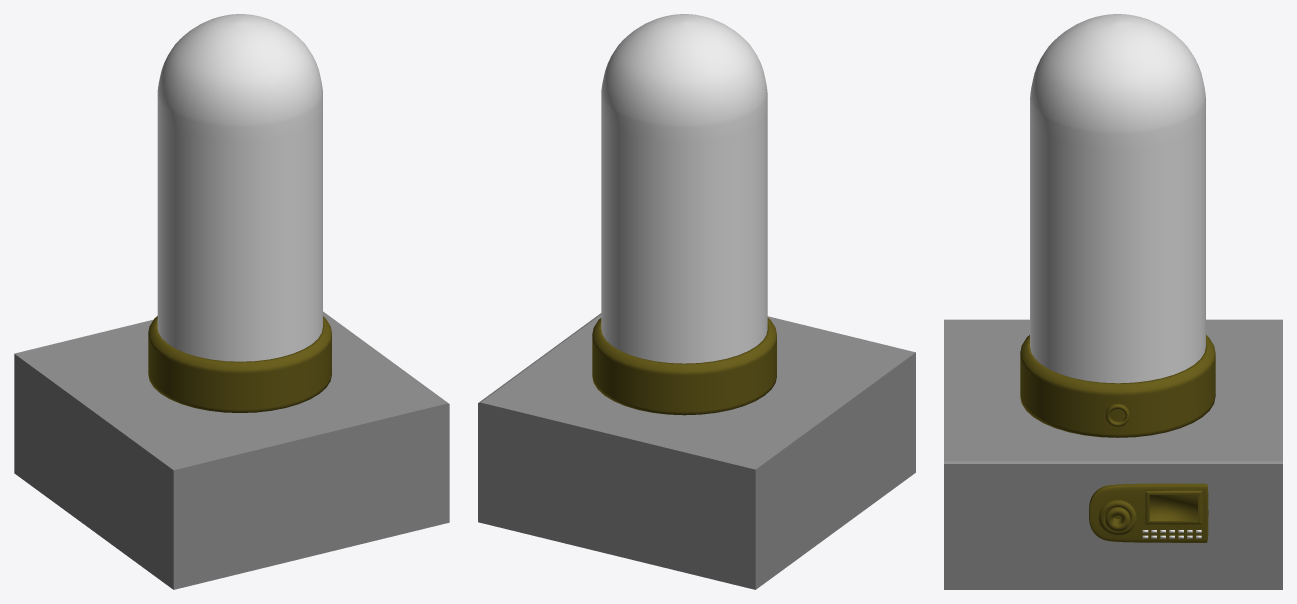
Rendered from SPrastenie_kolba.fbx.
The picture shows the model from 3 angles, left to right: view 1: azimuth 30°, elevation 25°; view 2: azimuth 150°, elevation 25°; view 3: azimuth 270°, elevation 25°; orthographic projection. The views are drawn at different scales.
Parts seen in each view (by area): view 1: Cube, Cylinder611, Box145; view 2: Cube, Cylinder611, Box145; view 3: Cube, Cylinder611, Box145.
Boxes of the visible parts, x1,y1,x2,y2 form: Cube: (14, 311, 449, 589); Cylinder611: (157, 14, 322, 361); Box145: (148, 316, 331, 412); Cube: (478, 313, 915, 589); Cylinder611: (601, 14, 767, 363); Box145: (592, 317, 776, 415); Cube: (944, 319, 1282, 589); Cylinder611: (1030, 14, 1205, 383); Box145: (1020, 335, 1215, 542).
Size of the model in its own units: 121 by 186 by 114.
